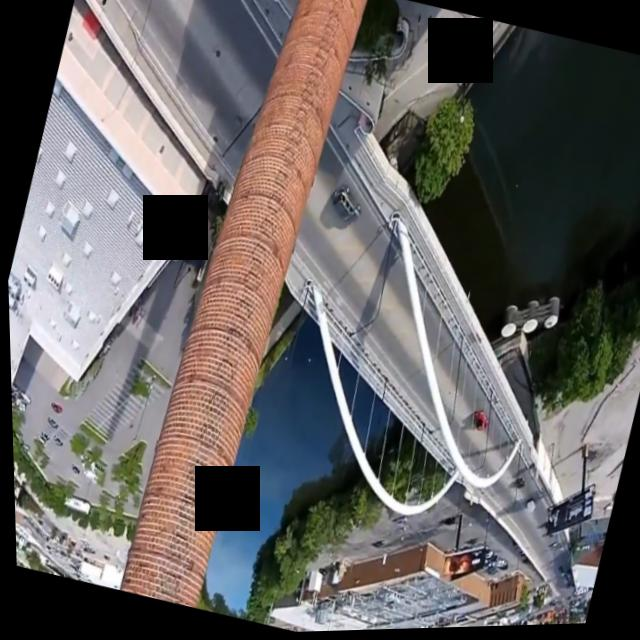Building: (100, 0, 395, 621), (239, 162, 595, 562)
Vehicle: (320, 169, 374, 244), (463, 403, 492, 439)
